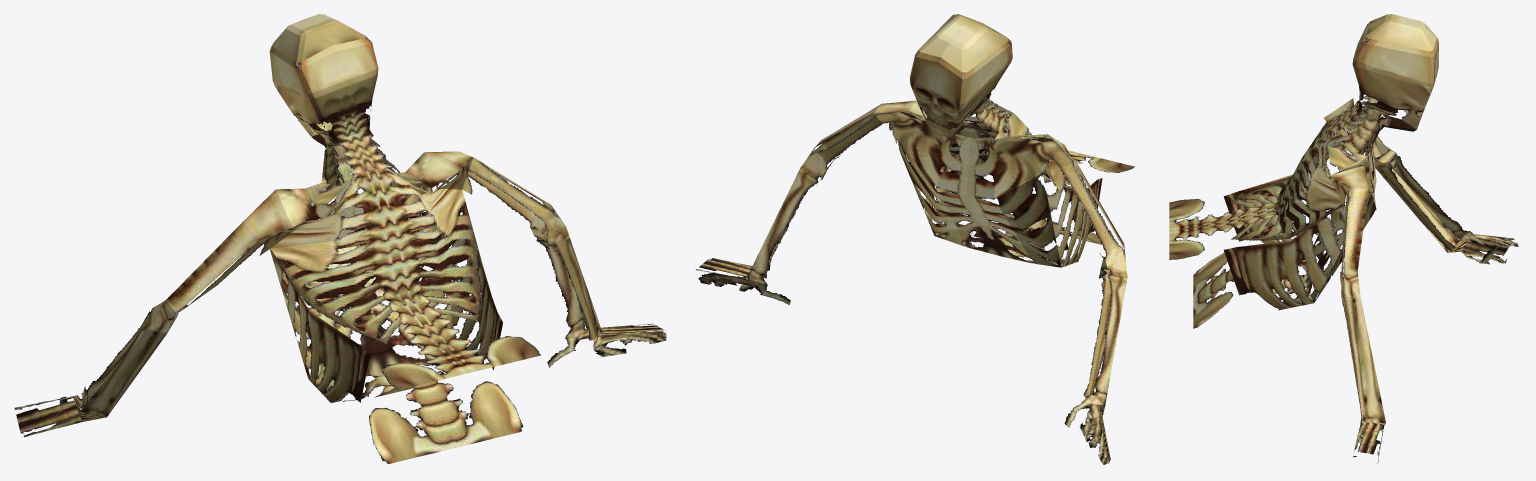
File: CAVEIRA.fbx
3 views of the same model, side by side, from view 1: azimuth 30°, elevation 25°; view 2: azimuth 150°, elevation 25°; view 3: azimuth 270°, elevation 25° (orthographic). The views are drawn at different scales.
Parts seen in each view (by area): view 1: esquleto_grande; view 2: esquleto_grande; view 3: esquleto_grande.
Part boxes in pixels (<box>): esquleto_grande: <box>14,14,666,463</box>; esquleto_grande: <box>696,14,1134,464</box>; esquleto_grande: <box>1169,14,1518,463</box>.
Bounding box in the file's own units: 1678 × 1185 × 1116.
Materials: 1 (1 with a texture image).
